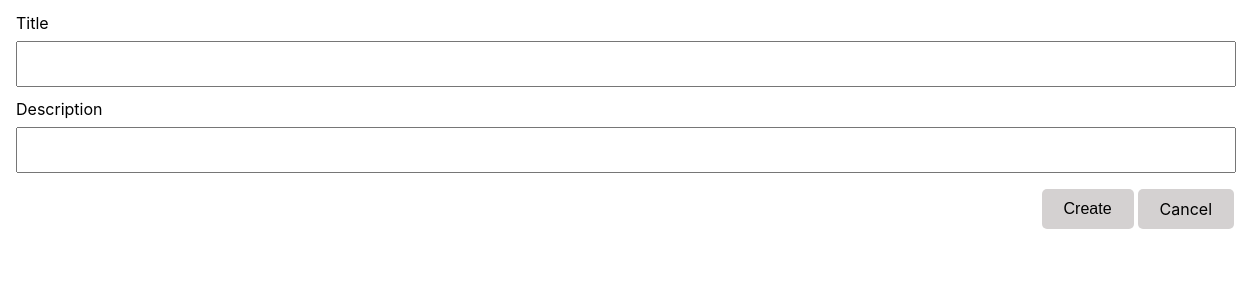
Scenario: check validations › check validation when creating
Click the button "Create": (1088, 209) [1042,189,1134,229]
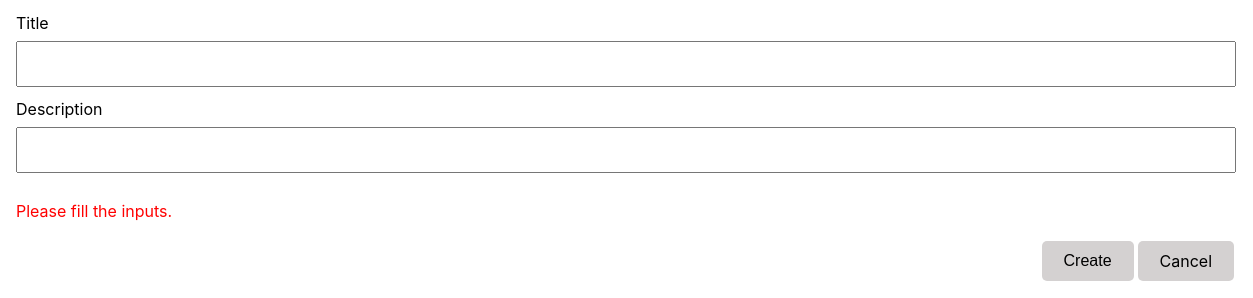
Check: the text "Please fill the inputs." is shown, box [16,201,172,221]
